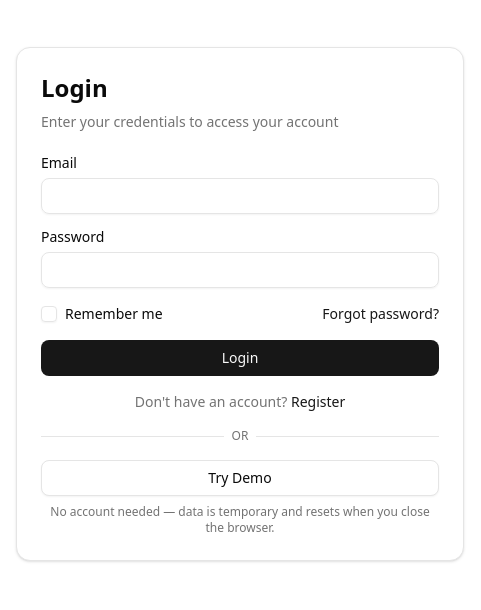
Scenario: LoginPage › displays server error when login fails
Type "test@example.com" into the field labelled "Email".
click(240, 196); type("test@example.com")  # box [41, 178, 439, 214]
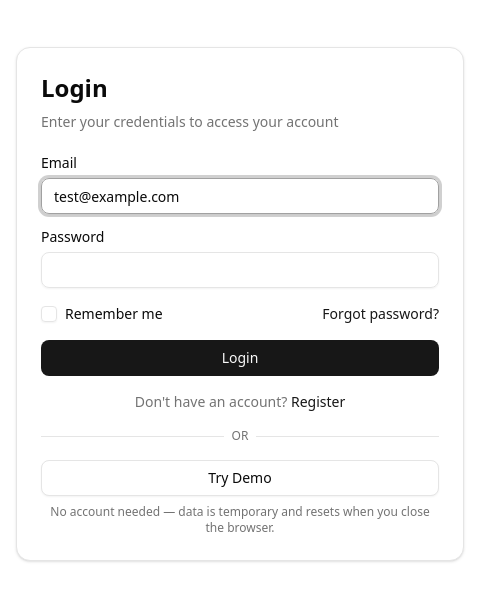
Type "wrongpassword" into the password field labelled "Password".
click(240, 270); type("wrongpassword")  # box [41, 252, 439, 288]
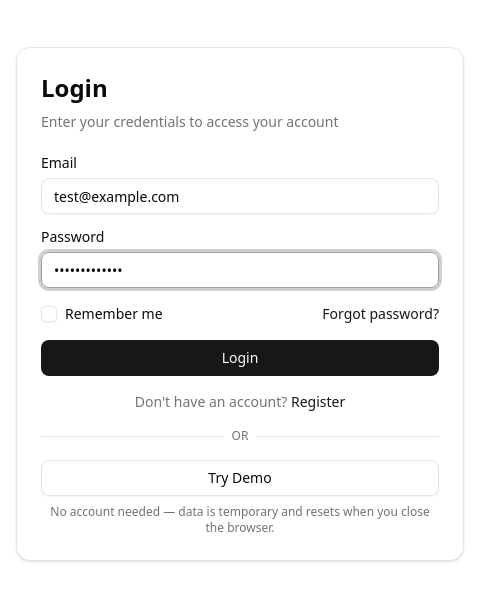
Click the button "Login".
click(240, 358)  # box [41, 340, 439, 376]
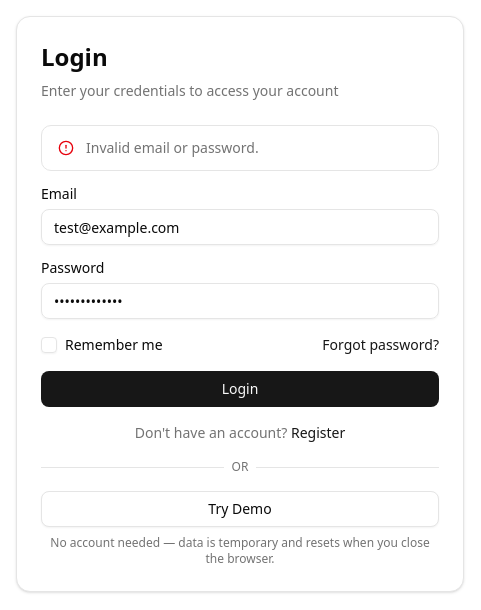
Check: the text "Invalid email or password." is shown, box [86, 138, 259, 157]
